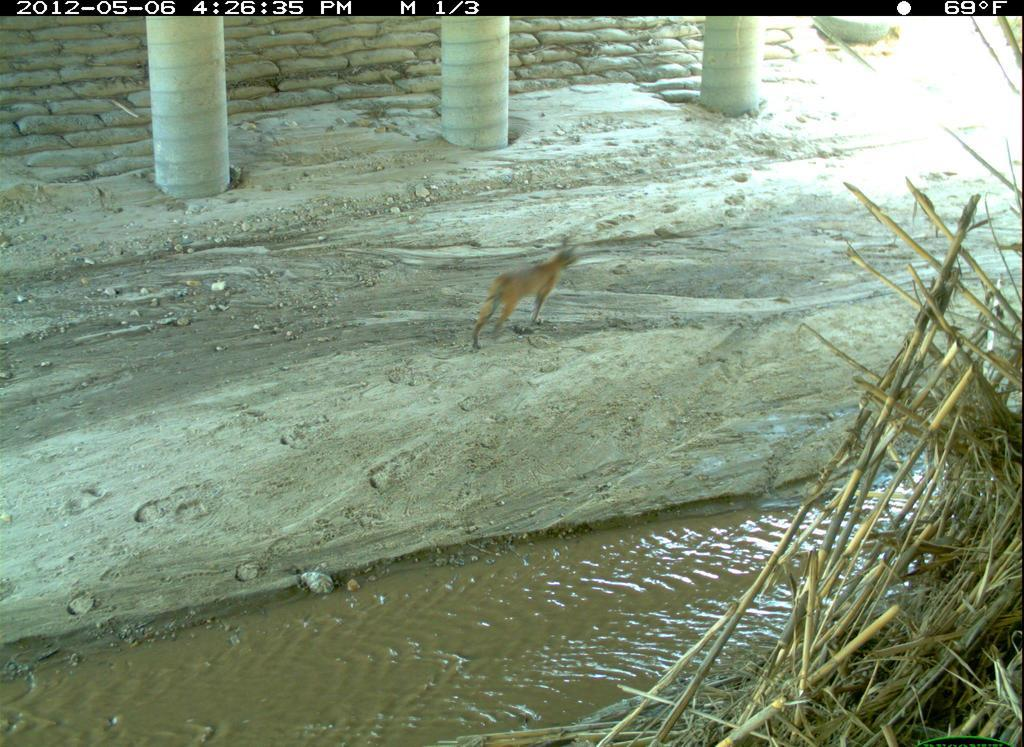bobcat: (471, 230, 591, 351)
